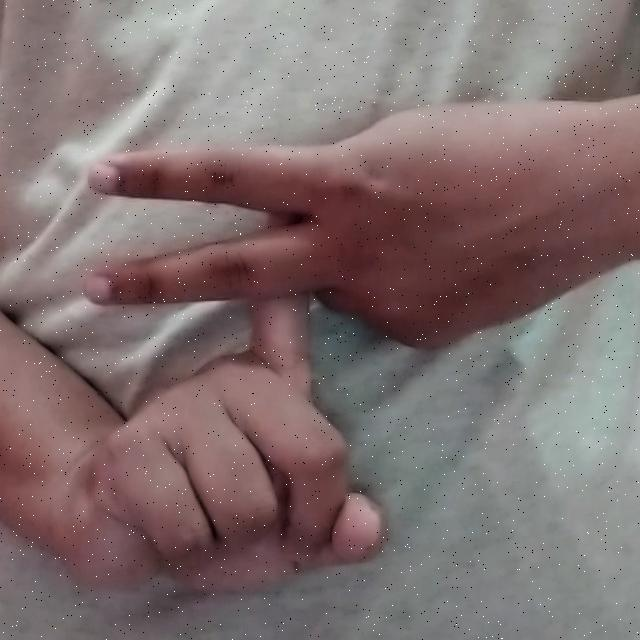F: (32, 86, 633, 606)
